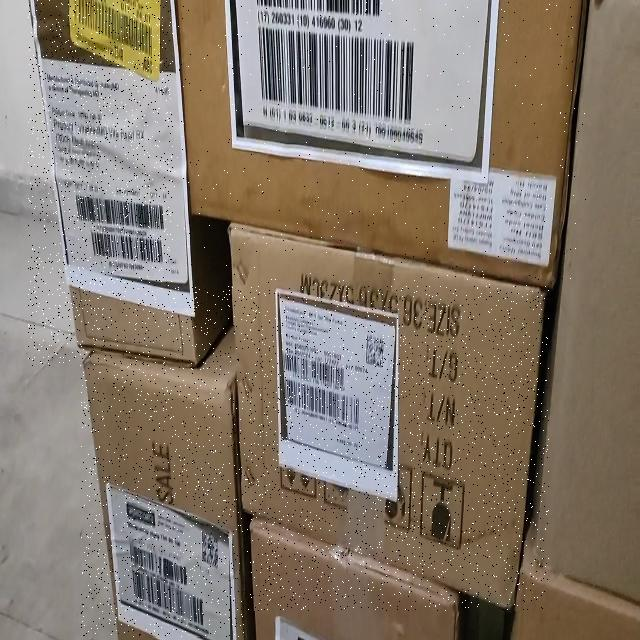BoxFace: (228, 218, 550, 612), (173, 0, 587, 286), (28, 0, 230, 367), (81, 326, 245, 638)
